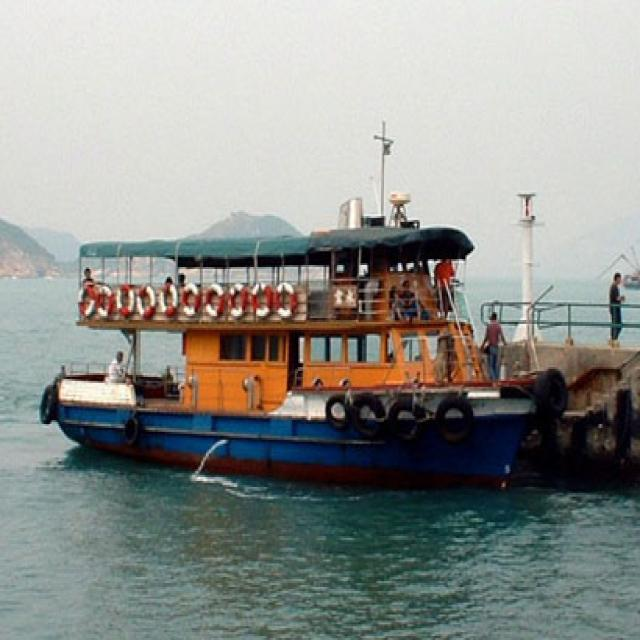houseboat: (63, 188, 540, 474)
